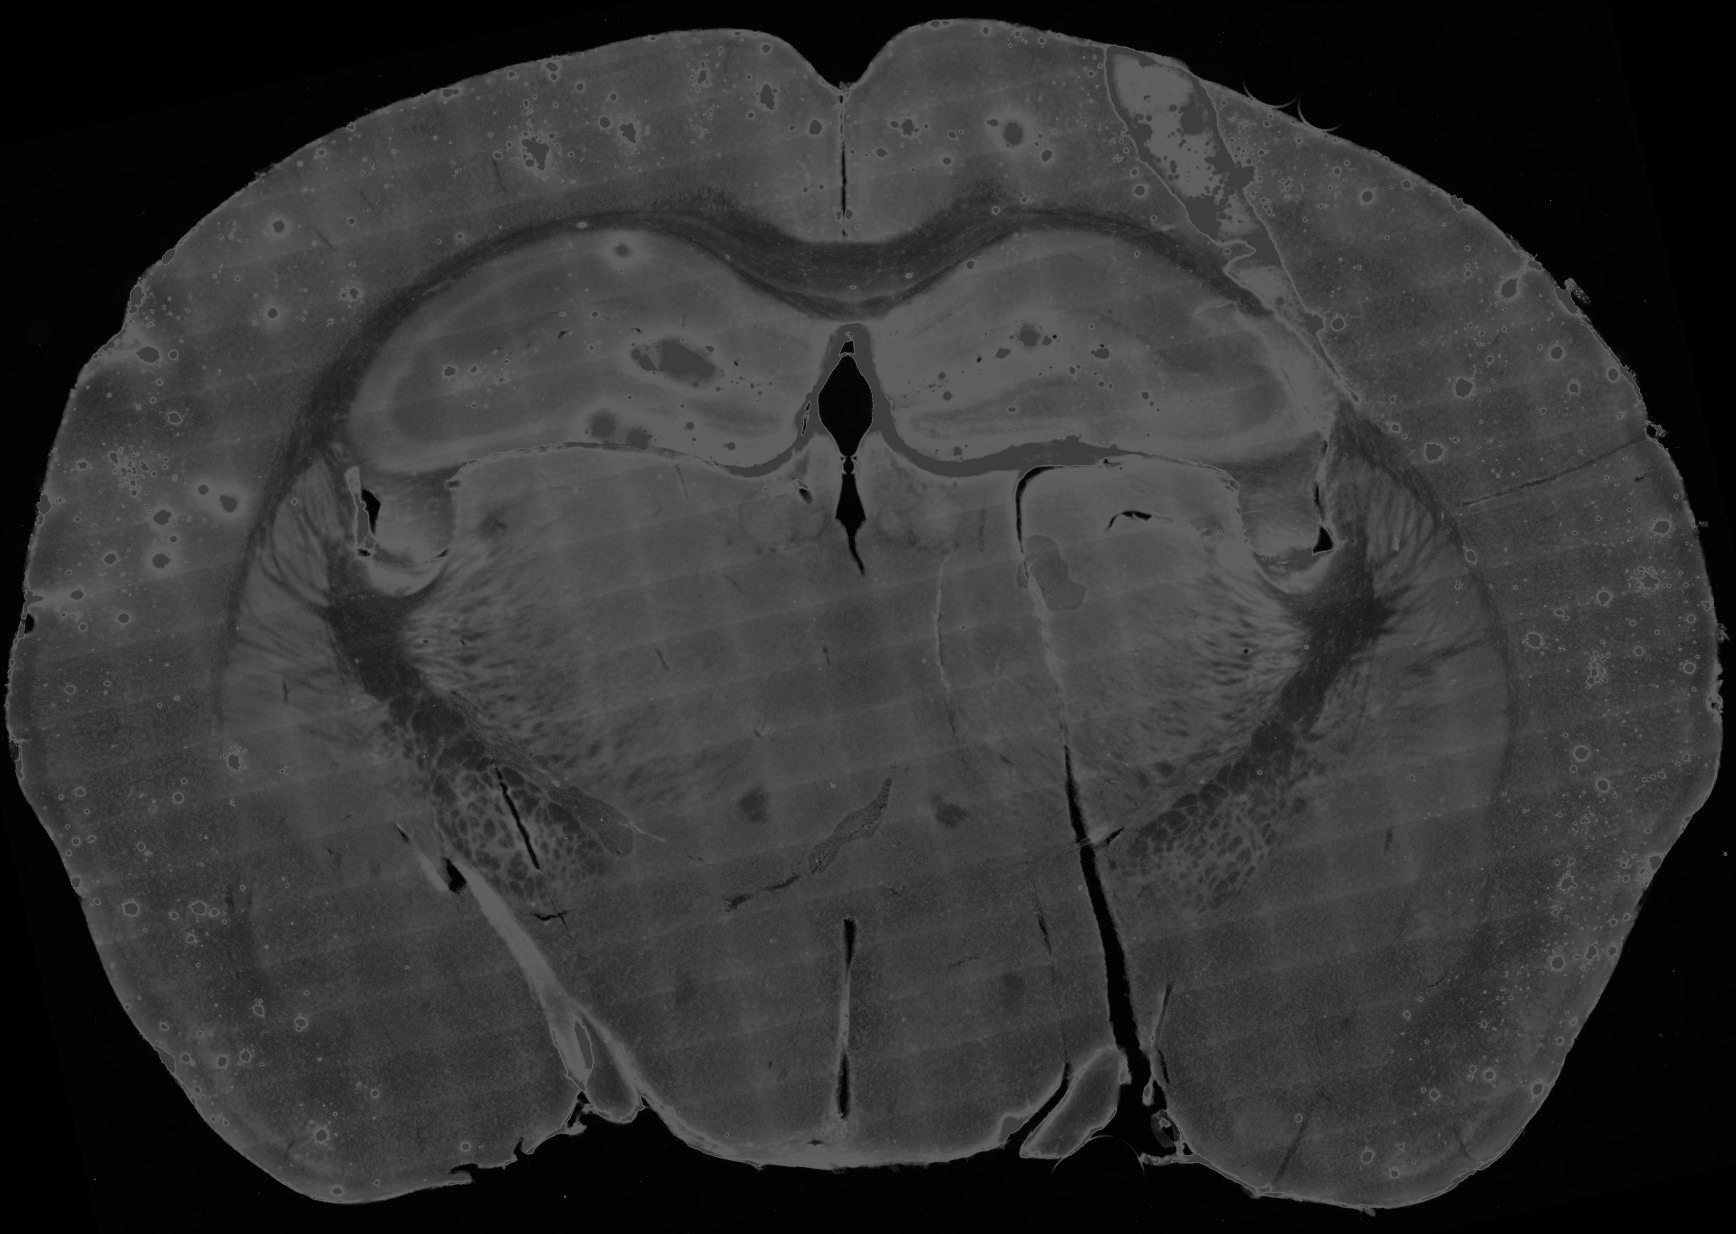Cerebral nuclei: (216, 453, 451, 1026), (1317, 441, 1509, 983)
Hippocampal formation: (346, 232, 840, 473), (867, 228, 1335, 461)
Hypothalamus: (840, 728, 1254, 1170), (470, 752, 852, 1170)
Retrosplenial area: (844, 44, 957, 244), (734, 41, 844, 244)
Somatosensory area: (1095, 45, 1651, 509), (122, 39, 650, 431)
Thalamus: (852, 431, 1307, 817), (401, 431, 861, 811)
